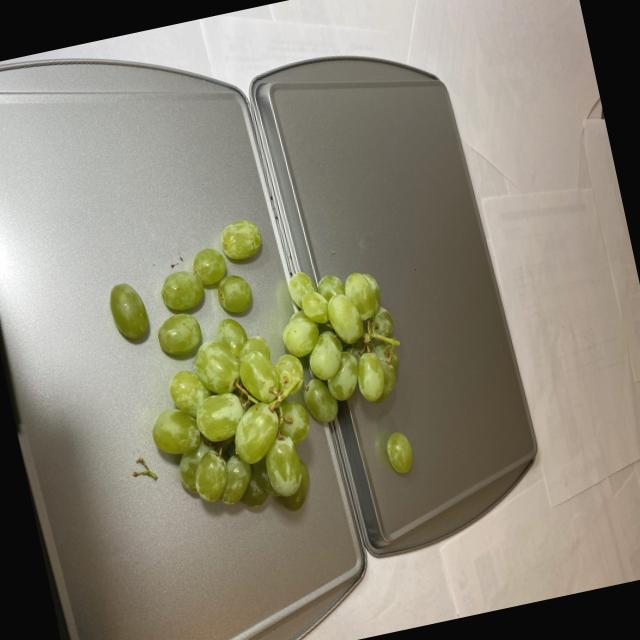grapes: (96, 196, 426, 534)
